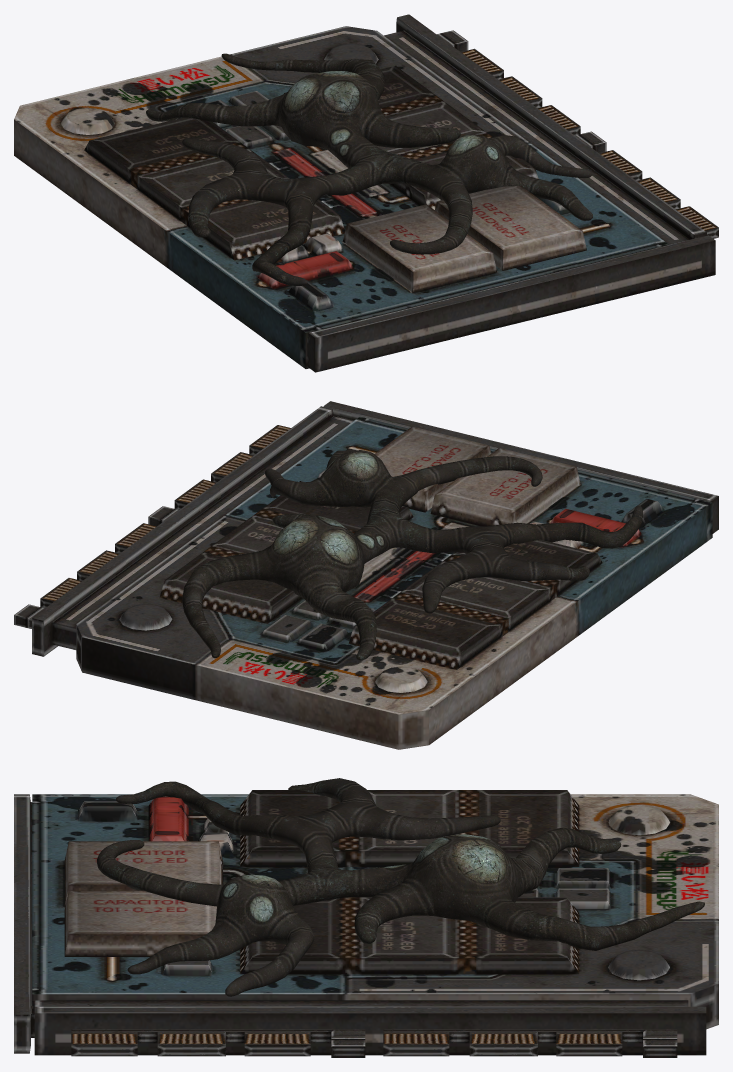
The model's file is structiure_gel_cabinet_chip_wauified_waucovered_hud.dae.
3 views of the same model, one above another, from view 1: azimuth 30°, elevation 25°; view 2: azimuth 150°, elevation 25°; view 3: azimuth 270°, elevation 25° (orthographic). The views are drawn at different scales.
Visible parts, largest first — view 1: chip, wau; view 2: chip, wau; view 3: chip, wau.
Part boxes in pixels (x1=…): chip: x1=14, y1=14, x2=718, y2=372; wau: x1=146, y1=53, x2=592, y2=285; chip: x1=14, y1=401, x2=718, y2=749; wau: x1=182, y1=449, x2=642, y2=660; chip: x1=14, y1=790, x2=718, y2=1057; wau: x1=97, y1=778, x2=704, y2=996.
Size of the model in its own units: 0.1783 by 0.0399 by 0.2227.
